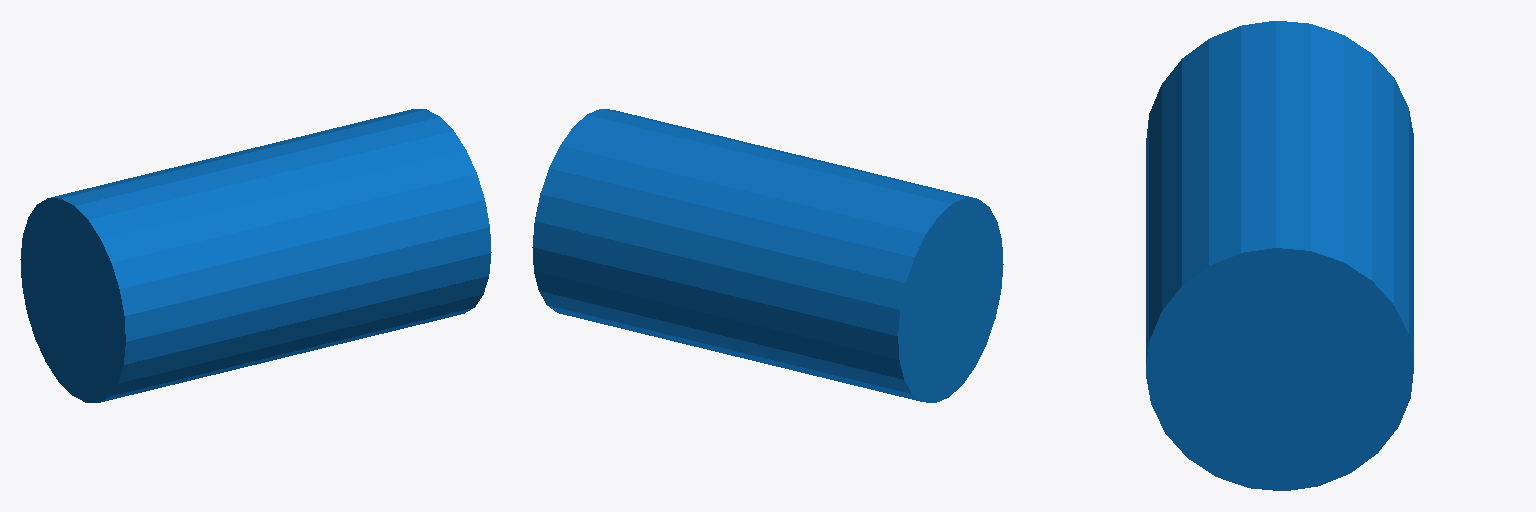
robot.urdf — cylinder:
<?xml version="0.0" ?>
<robot name="cylinder">
  <link name="baseLink">
    <contact>
      <lateral_friction value="1.0"/>
      <rolling_friction value="0.004"/>
      <contact_cfm value="0.0"/>
      <contact_erp value="1.0"/>
    </contact>
    <inertial>
      <mass value="0.025"/>
      <origin rpy="0 0 0" xyz="0 0 0"/>
      <inertia ixx="8.91e-6" ixy="0" ixz="0" iyy="8.91e-6" iyz="0" izz="2.81e-6"/>
    </inertial>
    <visual>
      <origin rpy="0 0 0" xyz="0 0 0"/>
      <geometry>
        <mesh filename="meshes/cylinder.obj"/>
      </geometry>
      <material name="white">
        <color rgba="0.1 0.5 0.8 1"/>
      </material>
    </visual>
    <collision>
      <origin rpy="0 0 0" xyz="0 0 0"/>
      <geometry>
        <mesh filename="meshes/cylinder.obj"/>
      </geometry>
    </collision>
  </link>
</robot>

--- What the picture shows (computed from the rendered views, not written in the file) ---
Views: 3 orthographic renders of the robot side by side, from view 1: azimuth 30°, elevation 25°; view 2: azimuth 150°, elevation 25°; view 3: azimuth 270°, elevation 25°.
Robot: cylinder — 1 links, 0 joints (none); root link baseLink; default pose: every joint at zero.
Visible links, largest first — view 1: baseLink; view 2: baseLink; view 3: baseLink.
Link boxes in pixels (bbox=[...]): baseLink: bbox=[20, 109, 491, 402]; baseLink: bbox=[532, 109, 1003, 402]; baseLink: bbox=[1146, 21, 1413, 490].
Bounding box of the posed robot: 0.06 × 0.03 × 0.03 m (x, y, z).
Meshes: 1 distinct files referenced, 1 mesh visuals loaded (1 OBJ).